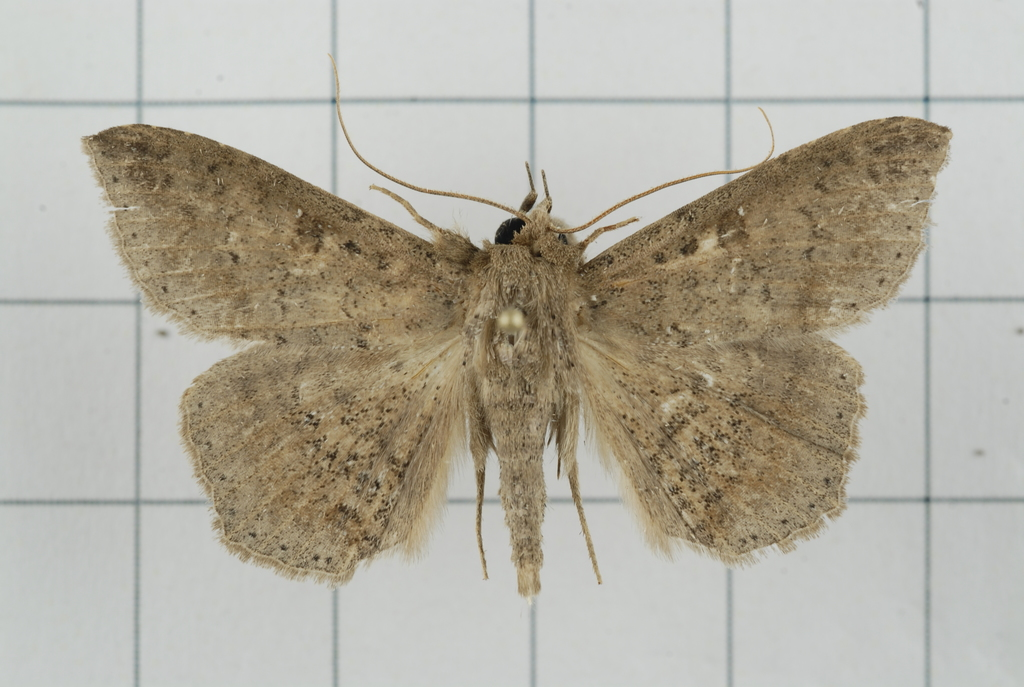Butterfly: (79, 112, 958, 599)
